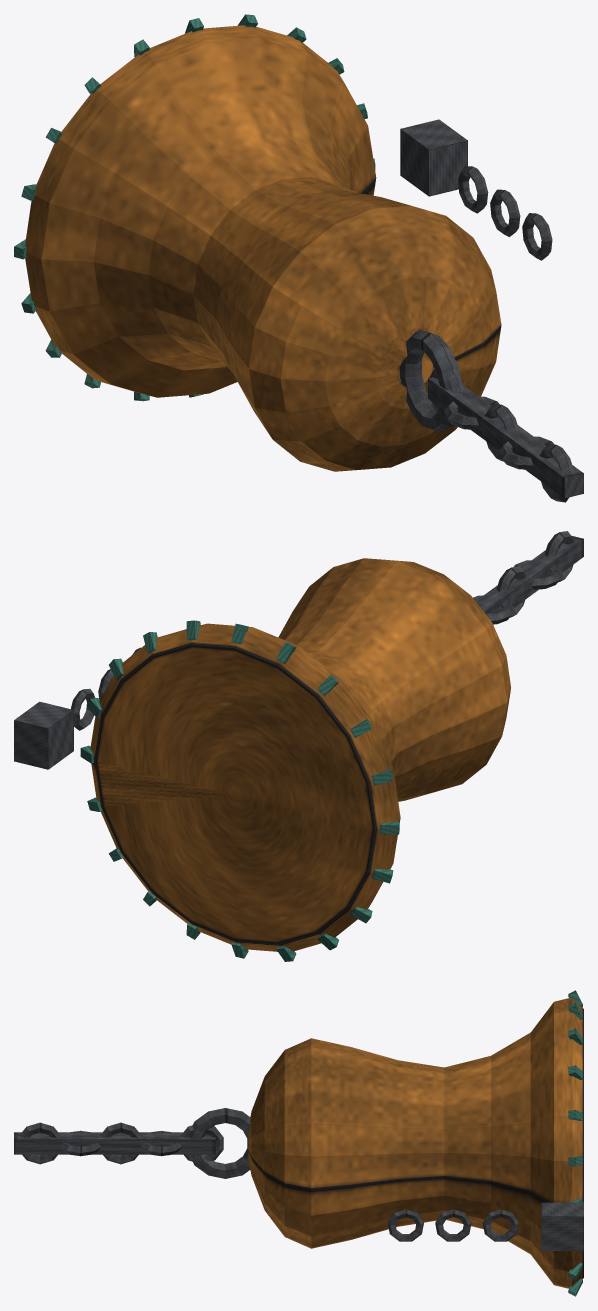
The model's file is ashbell_suspended_ninth_bell.obj.
3 views of the same model, one above another, from view 1: azimuth 30°, elevation 25°; view 2: azimuth 150°, elevation 25°; view 3: azimuth 270°, elevation 25° (orthographic). The views are drawn at different scales.
Parts seen in each view (by area): view 1: ashbell_suspended_ninth_bell; view 2: ashbell_suspended_ninth_bell; view 3: ashbell_suspended_ninth_bell.
Part boxes in pixels (x1,y1,x2,y2): ashbell_suspended_ninth_bell: (14,14,583,502); ashbell_suspended_ninth_bell: (14,531,583,961); ashbell_suspended_ninth_bell: (14,990,583,1296).
Bounding box in the file's own units: 1.55 × 1.3 × 2.4.
Materials: 4 (4 with a texture image).
